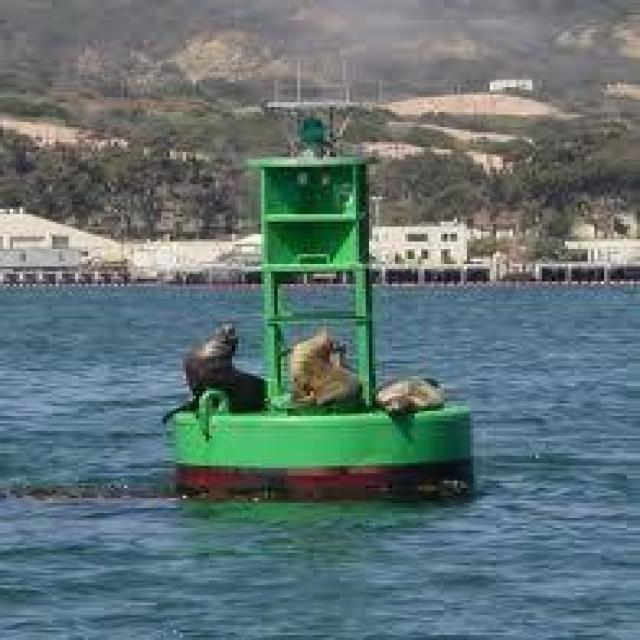2.1 lateral mark -S-: (180, 54, 482, 488)
